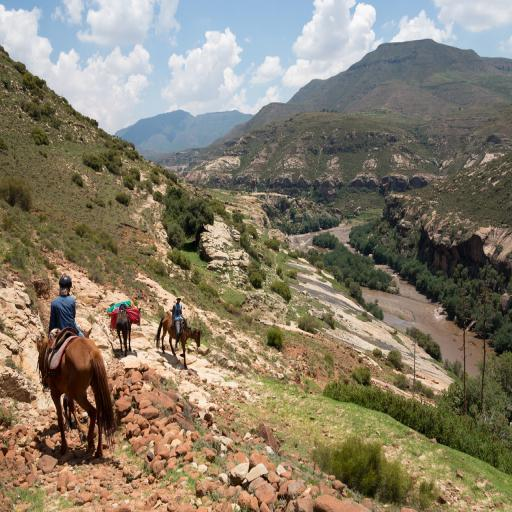Horse: (34, 332, 116, 462), (154, 313, 202, 370), (114, 306, 133, 351)
